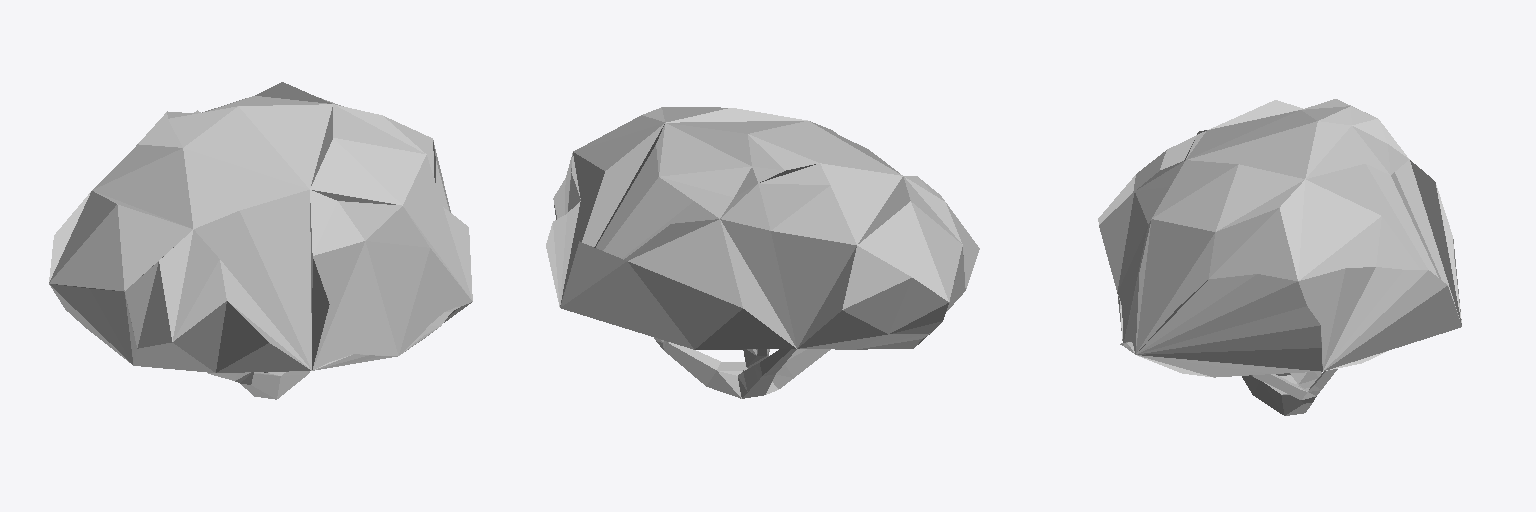
Rendered from bush-tree.obj.
The picture shows the model from 3 angles: view 1: azimuth 30°, elevation 25°; view 2: azimuth 150°, elevation 25°; view 3: azimuth 270°, elevation 25°; orthographic projection.
Visible parts, largest first — view 1: leaves; view 2: leaves; view 3: leaves.
Part boxes in pixels (left/top/right/bottom): leaves: left=49, top=82, right=472, bottom=399; leaves: left=546, top=107, right=979, bottom=398; leaves: left=1098, top=99, right=1461, bottom=415.
Size of the model in its own units: 5.07 by 3.38 by 4.12.